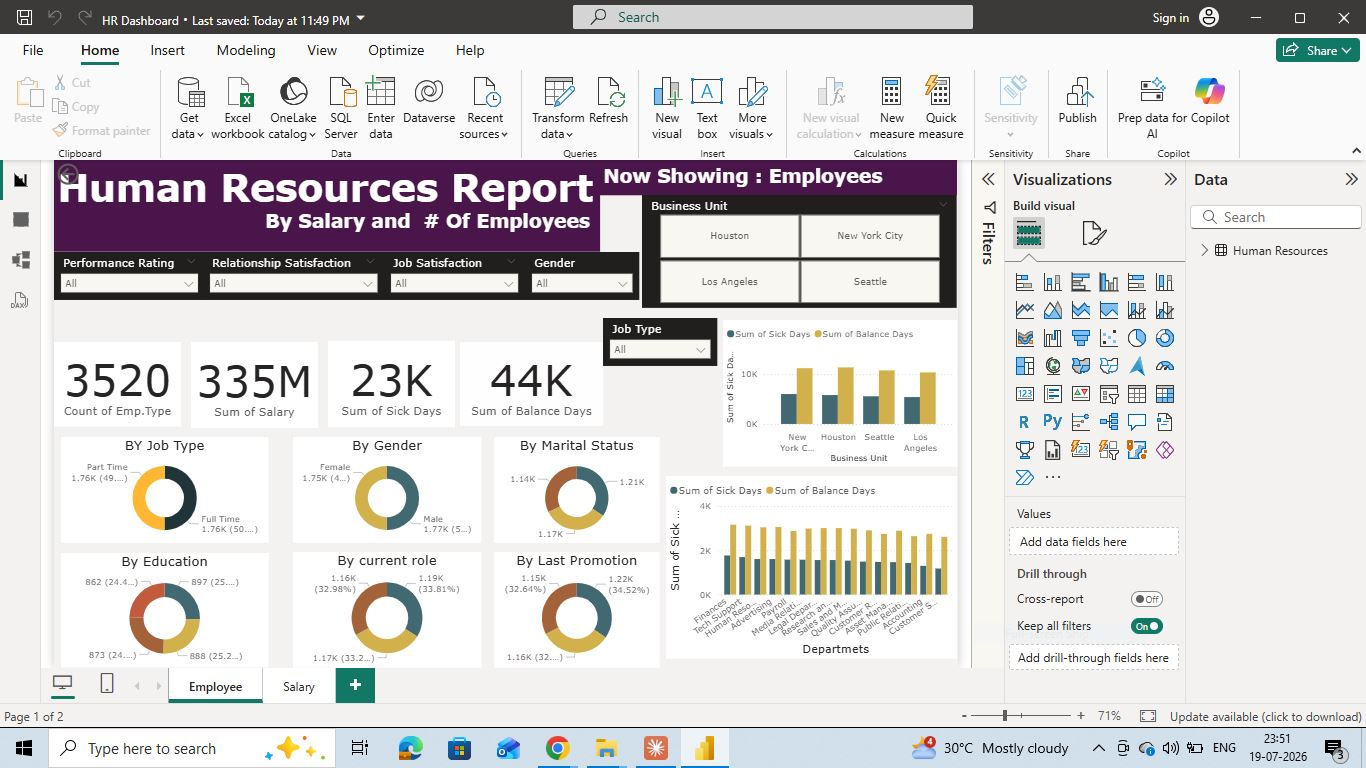

The dashboard page shown, as its layout file describes it:
{"tool":"powerbi","page":{"name":"Employee","canvas":[1280,720],"ordinal":0},"visuals":[{"type":"textbox","box":[0,0,773.9,130.4],"z":0},{"type":"textbox","box":[773.9,0,506,49.6],"z":1000},{"type":"card","fields":{"Values":["Sum(Human Resources.Salary)"]},"box":[194.2,258,180,121.9],"z":2000},{"type":"card","title":"Total Sick Day","fields":{"Values":["Sum(Human Resources.Sick Days)"]},"box":[388.3,256.5,180,121.9],"z":3000},{"type":"card","fields":{"Values":["Sum(Human Resources.Balance Days)"]},"box":[575.4,258,202.7,119.1],"z":4000},{"type":"card","title":"Total Employees","fields":{"Values":["CountNonNull(Human Resources.Emp.Type)"]},"box":[0,258,180,120.5],"z":5000},{"type":"donutChart","title":"BY Job Type","fields":{"Y":["CountNonNull(Human Resources.Job Type)"],"Category":["Human Resources.Job Type"]},"box":[10.6,392.3,293.9,150],"z":6000},{"type":"actionButton","box":[0,0,100,40],"z":7000},{"type":"donutChart","title":"By Gender","fields":{"Category":["Human Resources.Gender"],"Y":["CountNonNull(Human Resources.Gender)"]},"box":[339.3,392.3,266.6,150],"z":8000},{"type":"donutChart","title":"By Marital Status","fields":{"Category":["Human Resources.Marital Status"],"Y":["CountNonNull(Human Resources.Marital Status)"]},"box":[624.1,392.3,234.8,150],"z":9000},{"type":"donutChart","title":"By Education","fields":{"Category":["Human Resources.Education"],"Y":["CountNonNull(Human Resources.Education)"]},"box":[10.6,557.4,293.9,162.1],"z":10000},{"type":"donutChart","title":"By current role ","fields":{"Category":["Human Resources.Years in current role"],"Y":["CountNonNull(Human Resources.Years in current role)"]},"box":[339.3,555.9,266.6,163.6],"z":11000},{"type":"donutChart","title":"By Last Promotion","fields":{"Category":["Human Resources.Years since last promition"],"Y":["CountNonNull(Human Resources.Years since last promition)"]},"box":[624.1,555.9,234.8,163.6],"z":12000},{"type":"slicer","fields":{"Values":["Human Resources.Gender"]},"box":[667.6,130.4,161.6,68],"z":13000},{"type":"slicer","fields":{"Values":["Human Resources.Job Type"]},"box":[778.1,223.9,161.6,68],"z":14000},{"type":"slicer","fields":{"Values":["Human Resources.Job Satisfaction"]},"box":[467.7,130.4,199.8,68],"z":15000},{"type":"slicer","fields":{"Values":["Human Resources.Business Unit"]},"box":[833.4,49.6,446.5,160.2],"z":16000},{"type":"slicer","fields":{"Values":["Human Resources.Performance Rating"]},"box":[0,130.4,214,68],"z":17000},{"type":"slicer","fields":{"Values":["Human Resources.Relationship Satisfaction"]},"box":[211.2,130.4,256.5,68],"z":18000},{"type":"clusteredColumnChart","fields":{"Y":["Sum(Human Resources.Sick Days)","Sum(Human Resources.Balance Days)"],"Category":["Human Resources.Departmets"]},"box":[867.4,447.9,412.4,259.4],"z":19000},{"type":"clusteredColumnChart","fields":{"Y":["Sum(Human Resources.Sick Days)","Sum(Human Resources.Balance Days)"],"Category":["Human Resources.Business Unit"]},"box":[948.2,226.8,331.7,208.3],"z":20000}]}

Visuals, with their boxes on the page's 1280x720 design canvas (x1, y1, x2, y2). These are canvas units, not pixel positions in the 1366x768 screenshot, which may show the page scaled, cropped or inside an application window:
textbox: (0,0,774,130)
textbox: (774,0,1280,50)
card - Sum(Human Resources.Salary): (194,258,374,380)
"Total Sick Day" card: (388,256,568,378)
card - Sum(Human Resources.Balance Days): (575,258,778,377)
"Total Employees" card: (0,258,180,378)
"BY Job Type" donutChart: (11,392,304,542)
actionButton: (0,0,100,40)
"By Gender" donutChart: (339,392,606,542)
"By Marital Status" donutChart: (624,392,859,542)
"By Education" donutChart: (11,557,304,720)
"By current role " donutChart: (339,556,606,720)
"By Last Promotion" donutChart: (624,556,859,720)
slicer - Human Resources.Gender: (668,130,829,198)
slicer - Human Resources.Job Type: (778,224,940,292)
slicer - Human Resources.Job Satisfaction: (468,130,668,198)
slicer - Human Resources.Business Unit: (833,50,1280,210)
slicer - Human Resources.Performance Rating: (0,130,214,198)
slicer - Human Resources.Relationship Satisfaction: (211,130,468,198)
clusteredColumnChart - Sum(Human Resources.Sick Days) x Sum(Human Resources.Balance Days): (867,448,1280,707)
clusteredColumnChart - Sum(Human Resources.Sick Days) x Sum(Human Resources.Balance Days): (948,227,1280,435)
